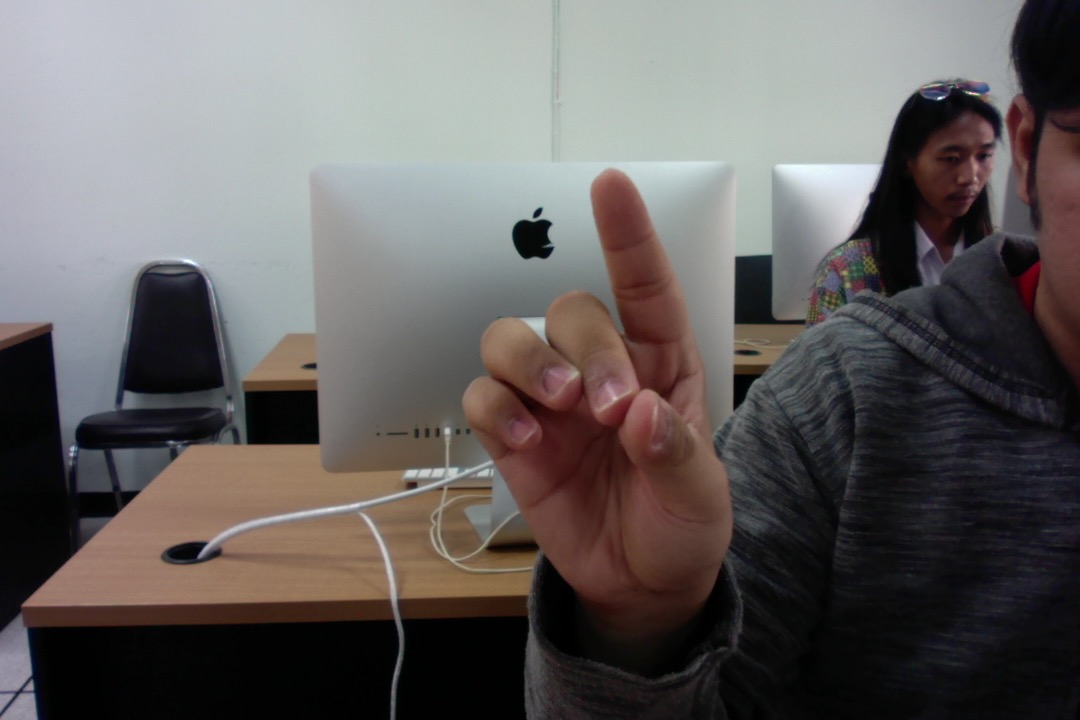dor: (447, 164, 738, 601)
